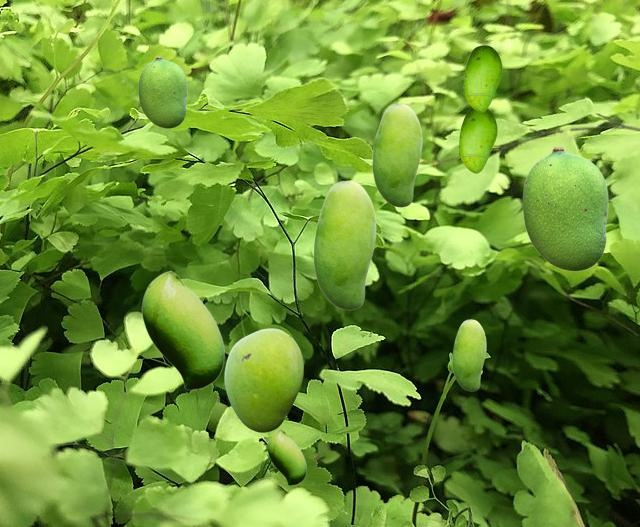green_mango: (522, 146, 607, 270), (141, 270, 223, 389), (224, 328, 302, 431), (313, 180, 375, 309), (372, 103, 421, 206), (138, 56, 186, 127), (463, 45, 501, 111), (458, 108, 496, 172), (452, 319, 485, 390), (267, 429, 305, 484)
